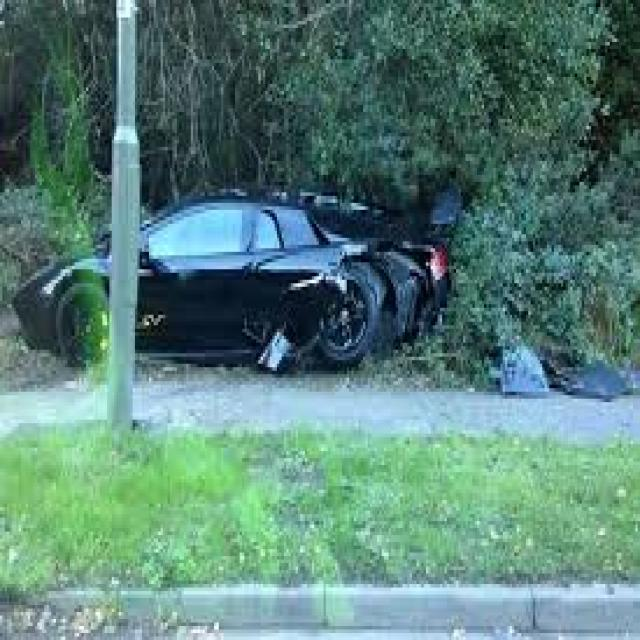moderate: (232, 163, 521, 508)
